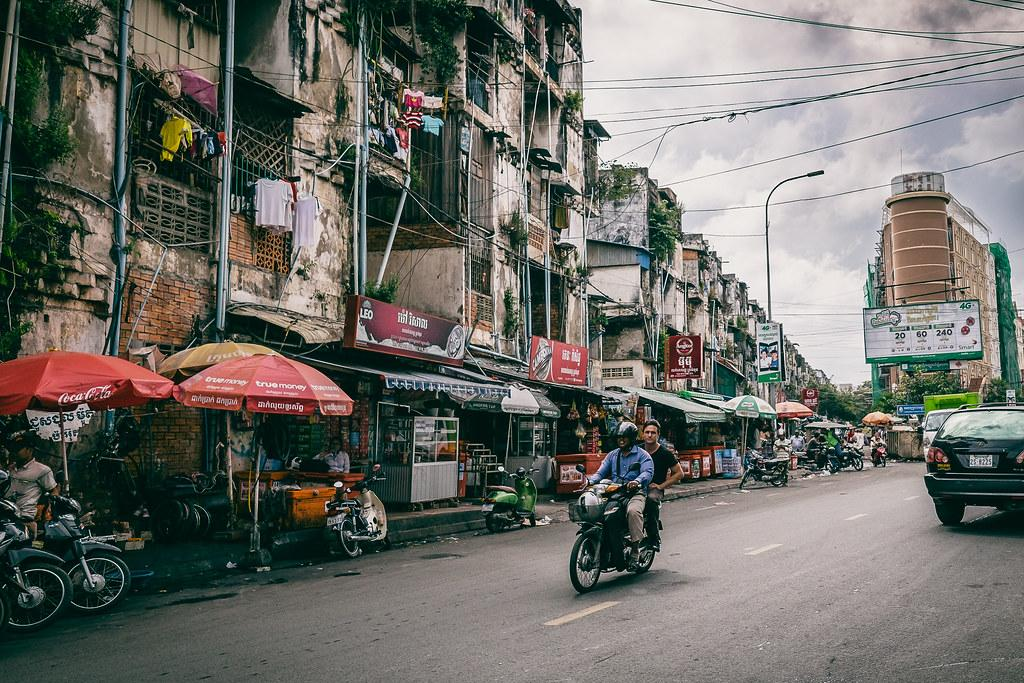car: (924, 403, 1024, 526)
